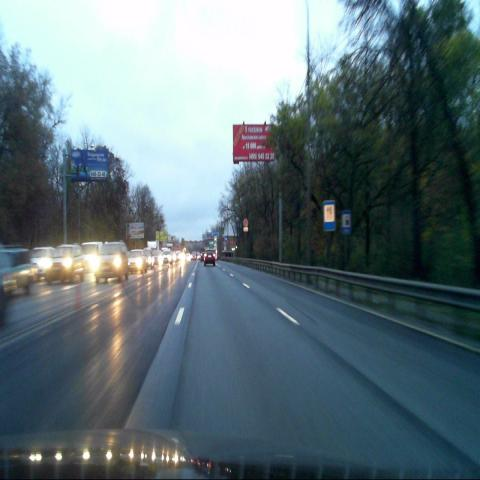7_3: (341, 210, 351, 234)
7_7: (323, 200, 335, 231)
